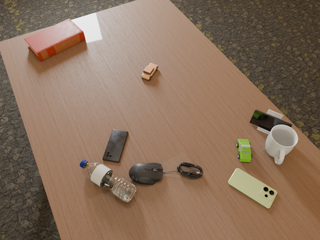book: (24, 19, 85, 62)
bottle: (80, 160, 137, 202)
cup: (265, 125, 298, 164)
mouse: (129, 163, 166, 185)
phone: (228, 168, 277, 208), (250, 110, 292, 131), (103, 129, 128, 162)
toy_car: (236, 139, 252, 162), (141, 63, 158, 80)
